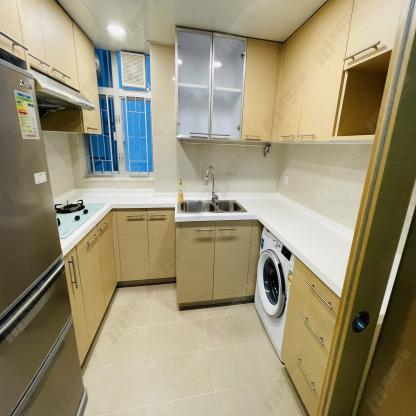Cupboard: (177, 0, 402, 142), (67, 208, 259, 366)
Exhaust Hood: (31, 70, 98, 117)
Faucet: (202, 161, 218, 202)
Fridge: (1, 56, 85, 416)
Sink: (181, 199, 247, 213)
Stove: (57, 199, 104, 239)
